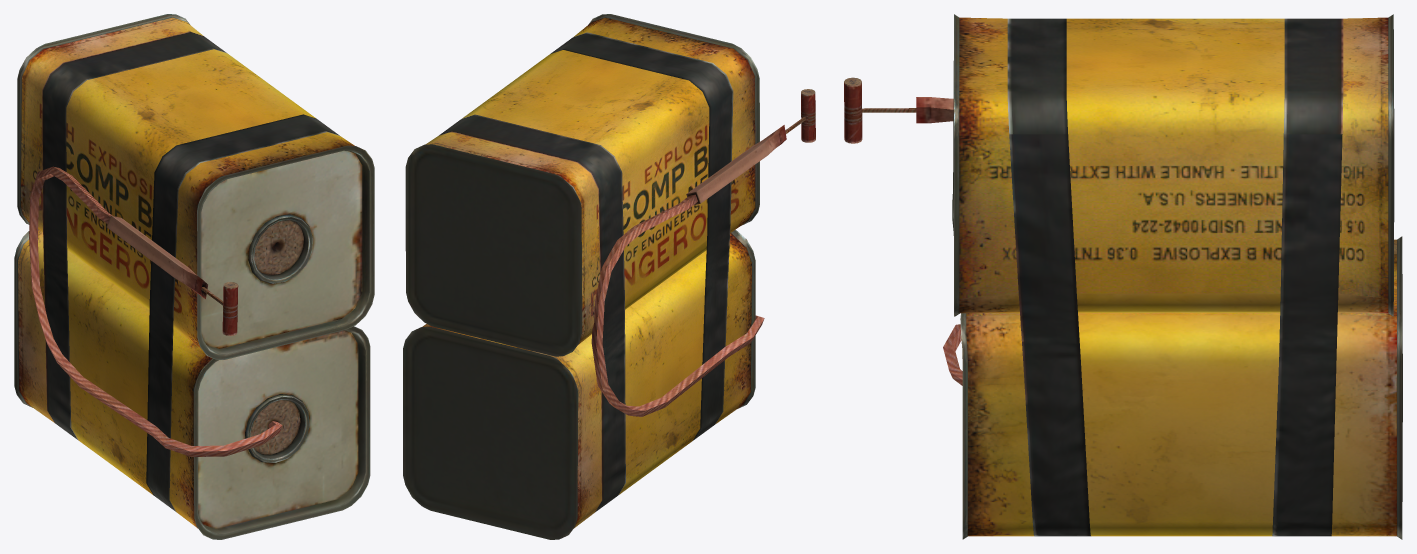
Rendered from VV_CompB.fbx.
3 views of the same model, side by side, from view 1: azimuth 30°, elevation 25°; view 2: azimuth 150°, elevation 25°; view 3: azimuth 270°, elevation 25° (orthographic). The views are drawn at different scales.
Parts seen in each view (by area): view 1: VV_CompB; view 2: VV_CompB; view 3: VV_CompB.
Boxes of the visible parts, box(x1,y1,x2,y2) form: VV_CompB: box(14, 14, 374, 539); VV_CompB: box(403, 14, 815, 539); VV_CompB: box(844, 14, 1402, 539).
Size of the model in its own units: 16.81 by 30.54 by 34.47.
Materials: 1 (1 with a texture image).
